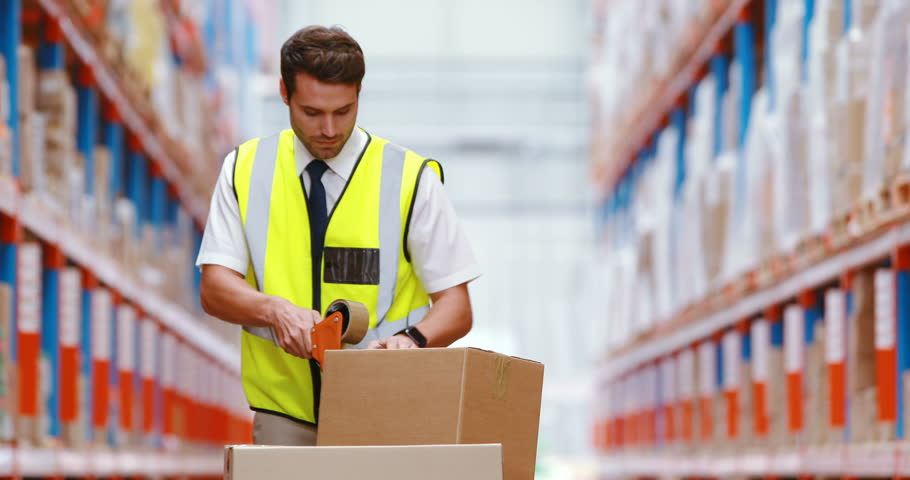noepi: (195, 22, 487, 472)
